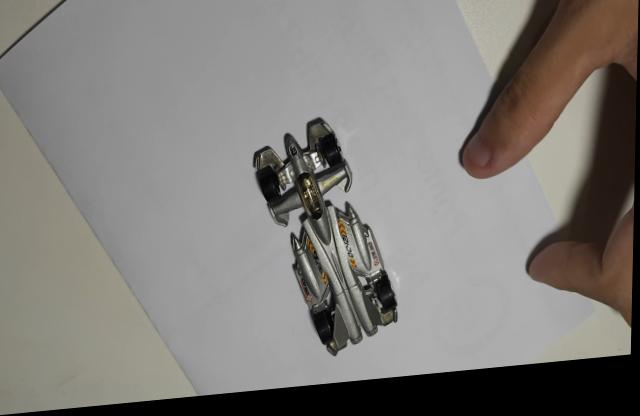05_DC121: (252, 123, 400, 365)
